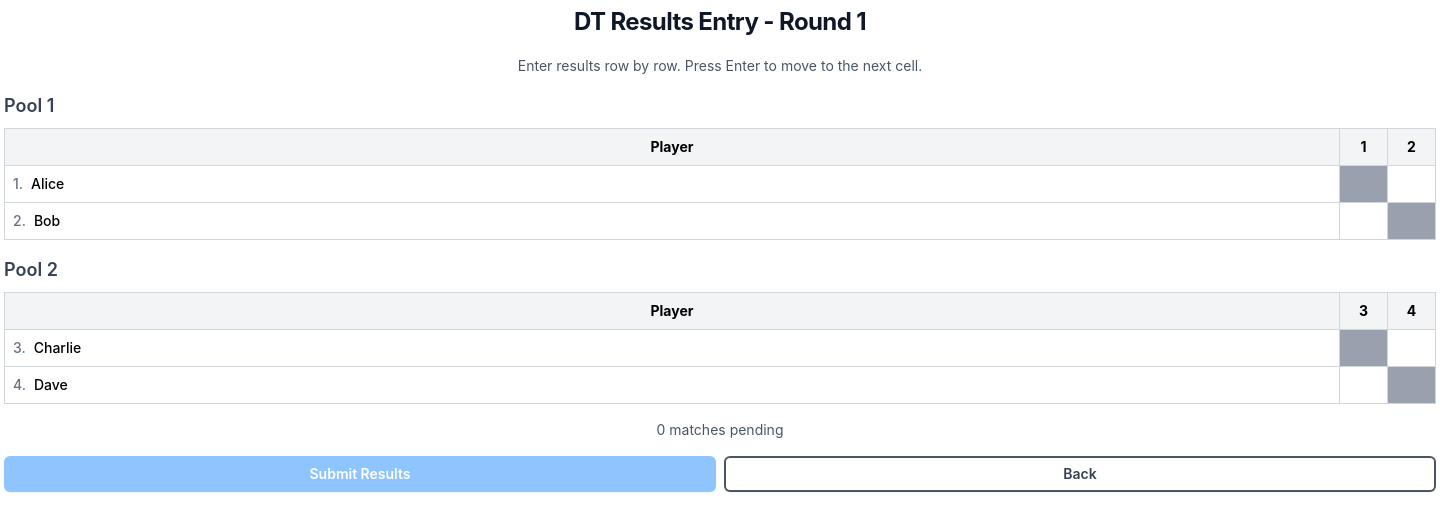
Test: BulkMatchEntry › Pool Support › should not count cross-pool matches in pending count
# Enter scores for Alice vs Bob (pool 1 intra-match)
Type "5" into the number field in the row of "Alice" at [1412, 184], box [1388,172,1435,196]
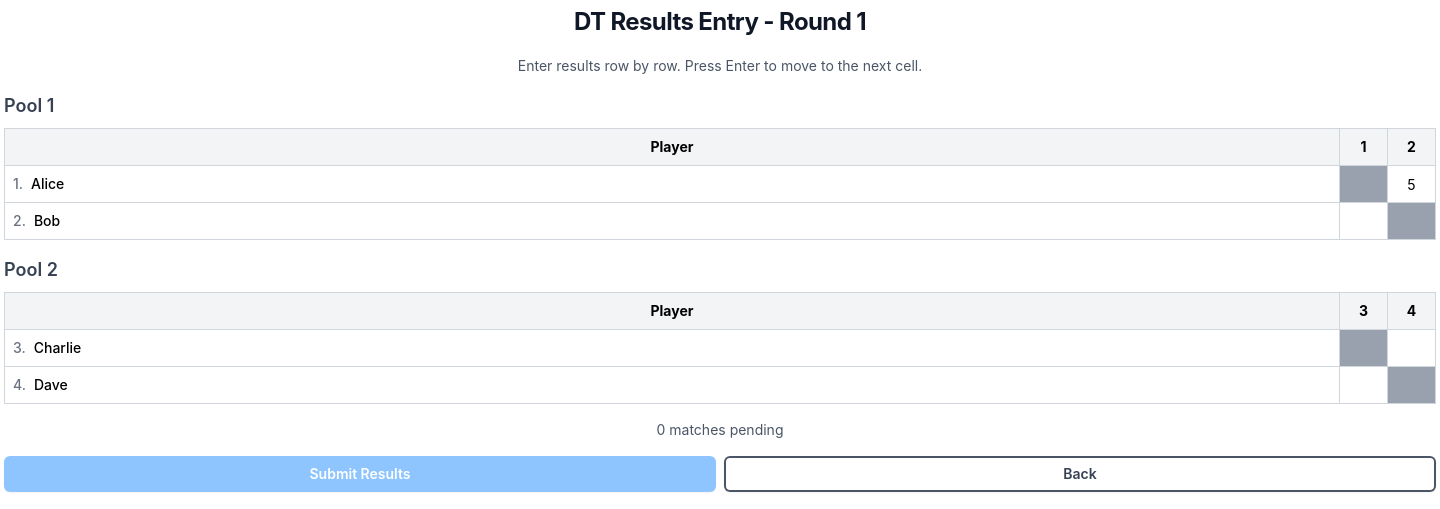
Type "3" into the number field in the row of "Bob" at [1364, 221], box [1340,208,1387,234]
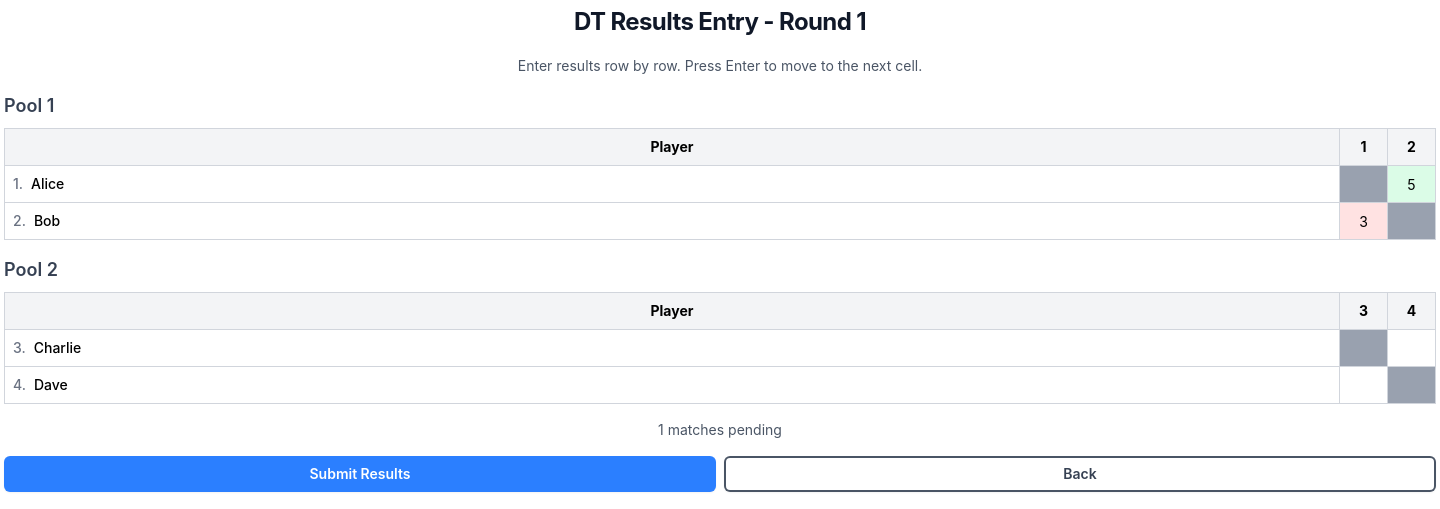
Expected: the text "1 matches pending" is shown, [658,421,782,438]
